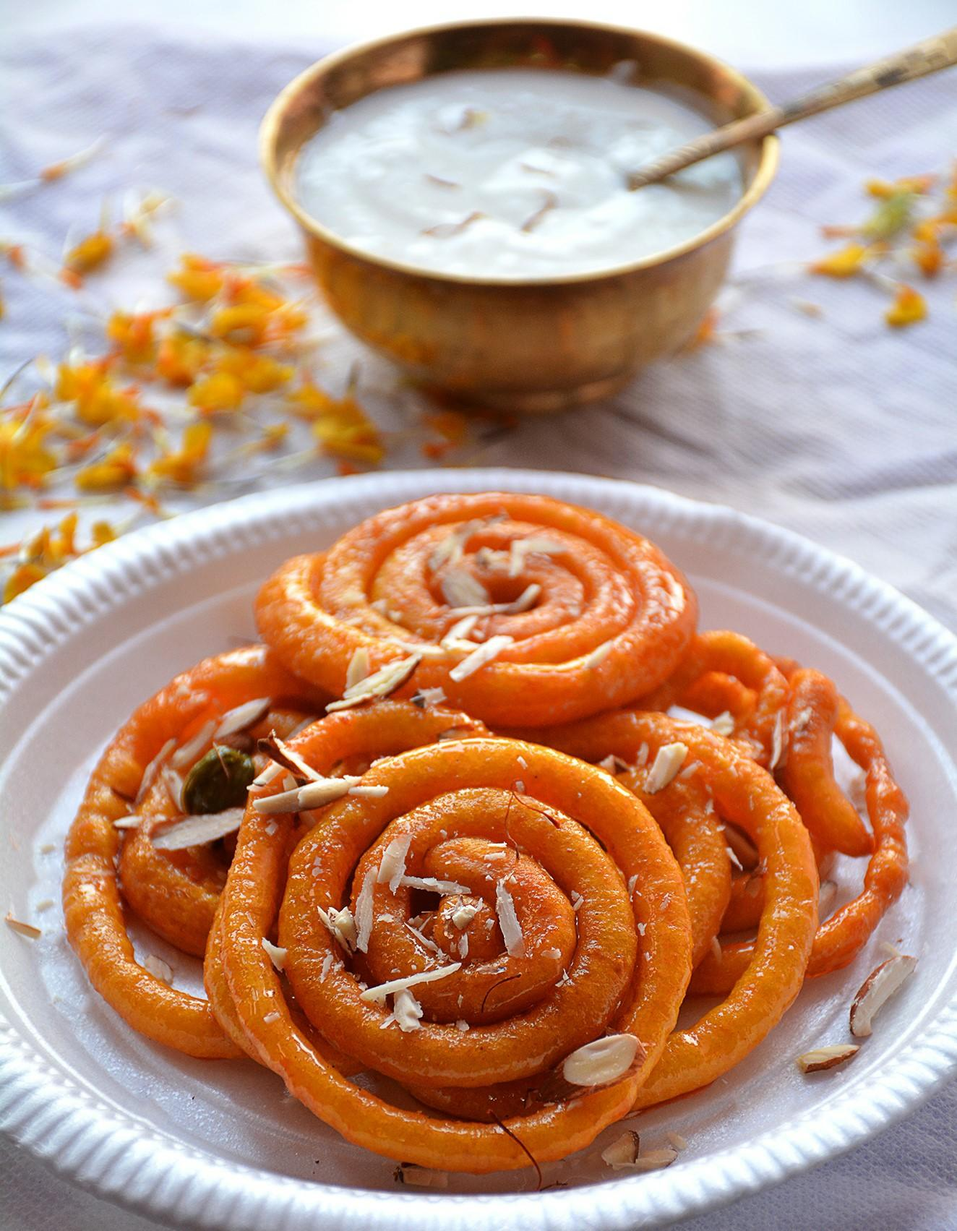Jalebi: (66, 482, 909, 1168)
